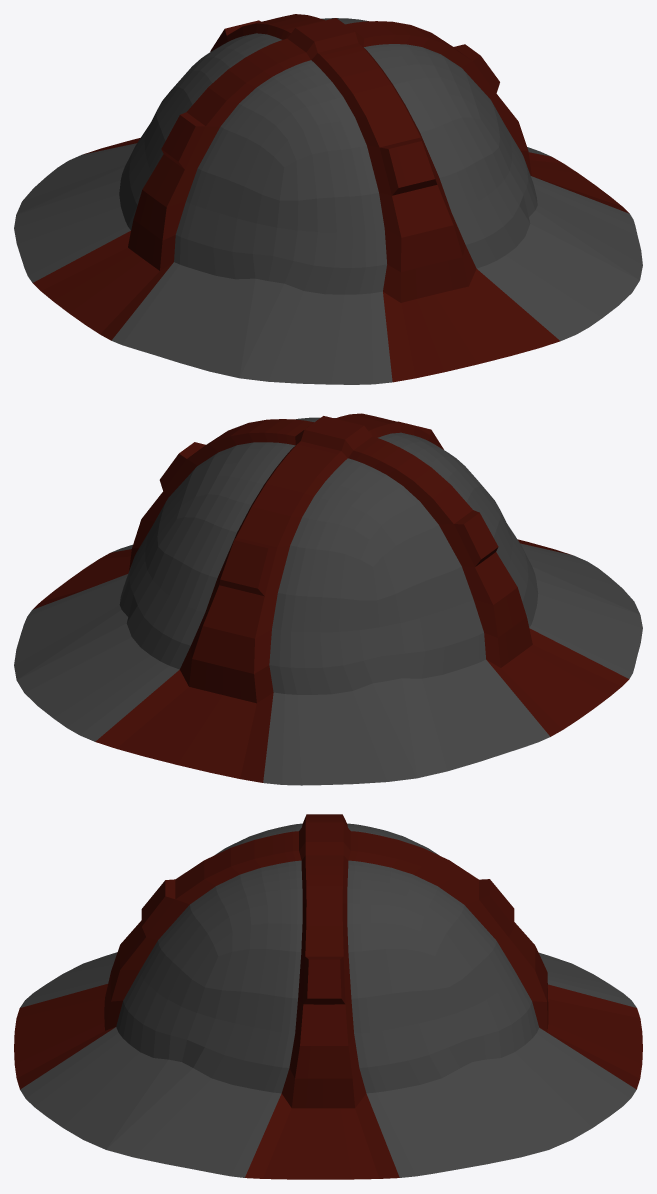
The model's file is helmet.fbx.
3 views of the same model, one above another, from view 1: azimuth 30°, elevation 25°; view 2: azimuth 150°, elevation 25°; view 3: azimuth 270°, elevation 25° (orthographic).
Parts seen in each view (by area): view 1: helmet; view 2: helmet; view 3: helmet.
Part boxes in pixels (bbox=[...]): helmet: bbox=[14, 14, 642, 384]; helmet: bbox=[14, 413, 642, 785]; helmet: bbox=[14, 814, 642, 1179].
Size of the model in its own units: 47 by 18.78 by 49.
